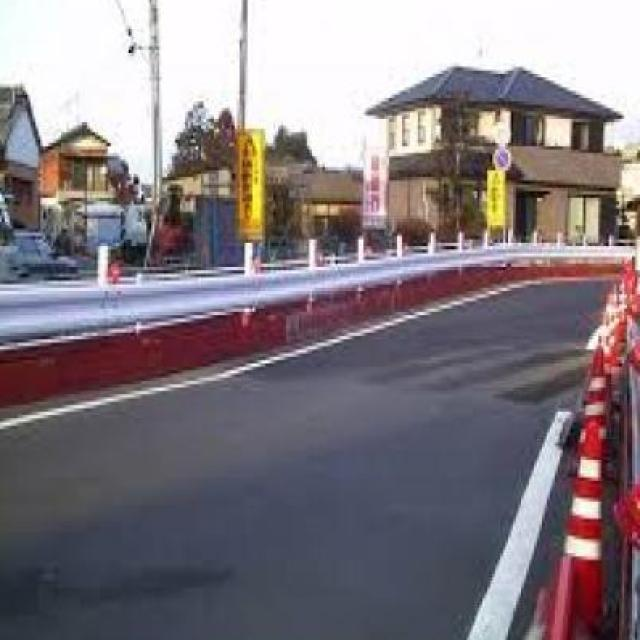Guard rail: (0, 228, 635, 352)
